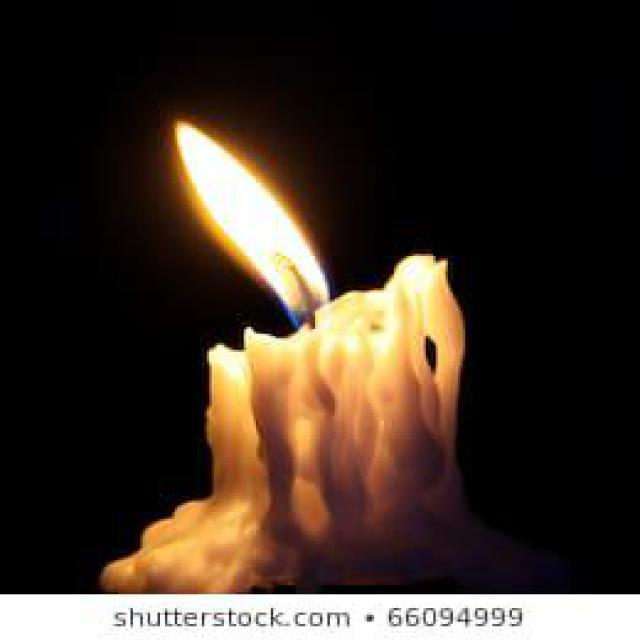Fire: (174, 121, 328, 325)
